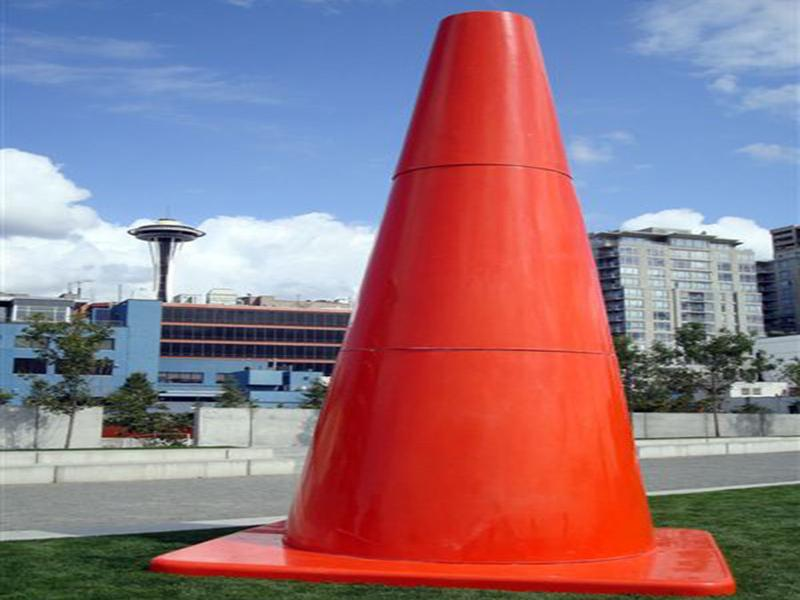Cone1: (145, 10, 737, 595)
